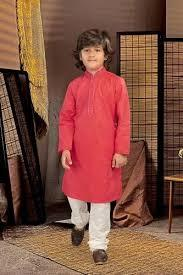Human: (57, 20, 131, 275)
